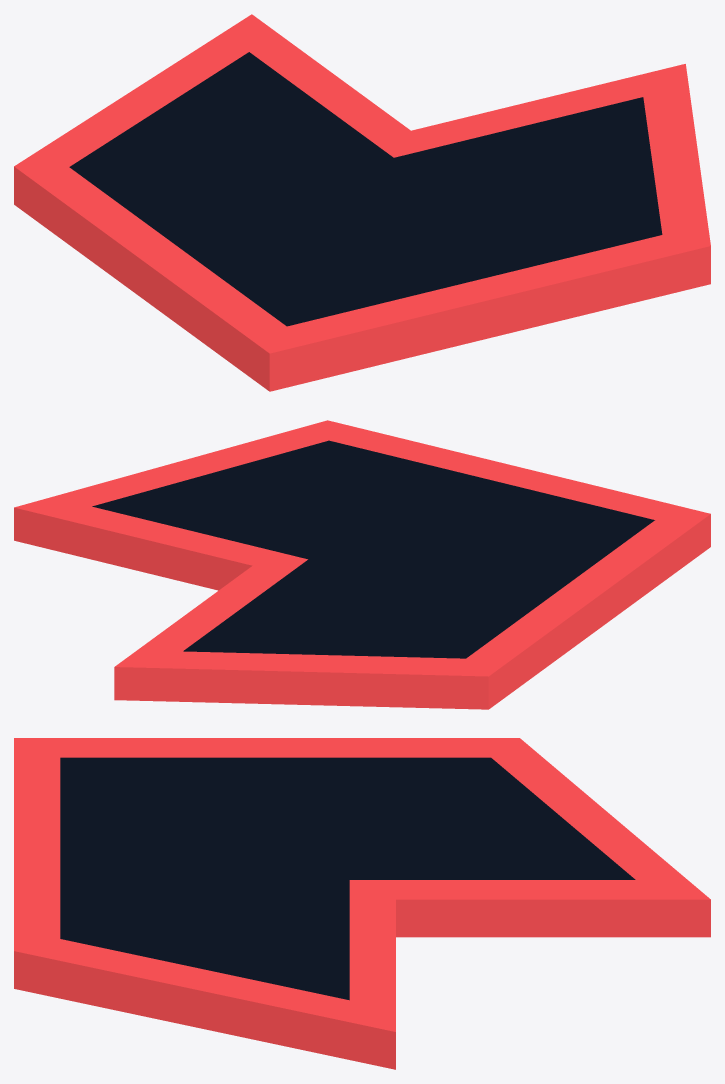
File: plat0.glb
3 renders of one model, top to bottom at view 1: azimuth 30°, elevation 25°; view 2: azimuth 150°, elevation 25°; view 3: azimuth 270°, elevation 25°, orthographic. The views are drawn at different scales.
Visible parts, largest first — view 1: boxs; view 2: boxs; view 3: boxs.
Part boxes in pixels (left/top/right/bottom): boxs: left=14, top=14, right=710, bottom=391; boxs: left=14, top=420, right=710, bottom=709; boxs: left=14, top=738, right=710, bottom=1069.
Size of what is drawn, in the model's own units: 2.94 by 0.1759 by 2.94.
1 material, 1 textured.
